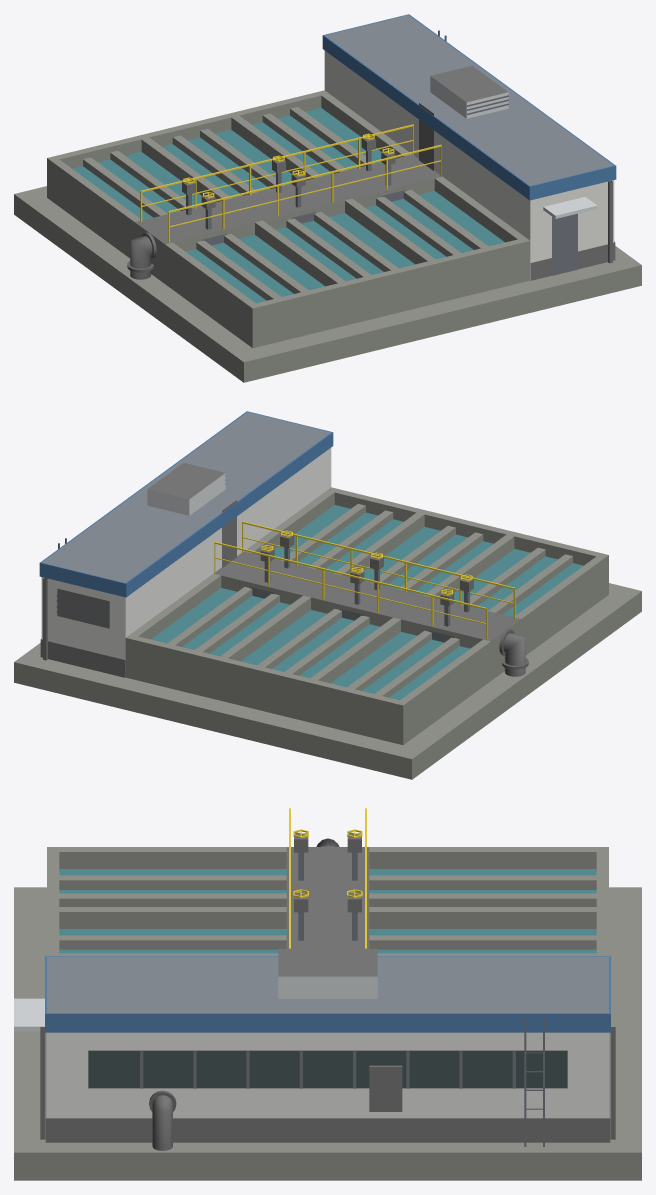
File: mashup-filter-top-prebuilt_close.fbx
3 renders of one model, top to bottom at view 1: azimuth 30°, elevation 25°; view 2: azimuth 150°, elevation 25°; view 3: azimuth 270°, elevation 25°, orthographic. The views are drawn at different scales.
Parts seen in each view (by area): view 1: a1074/0/mashup-filter-top-prebuilt_close; view 2: a1074/0/mashup-filter-top-prebuilt_close; view 3: a1074/0/mashup-filter-top-prebuilt_close.
Boxes of the visible parts, x1,y1,x2,y2 form: a1074/0/mashup-filter-top-prebuilt_close: (14,14,641,382); a1074/0/mashup-filter-top-prebuilt_close: (14,411,641,779); a1074/0/mashup-filter-top-prebuilt_close: (14,808,641,1180).
Size of the model in its own units: 15.2 by 4.8 by 15.2.
